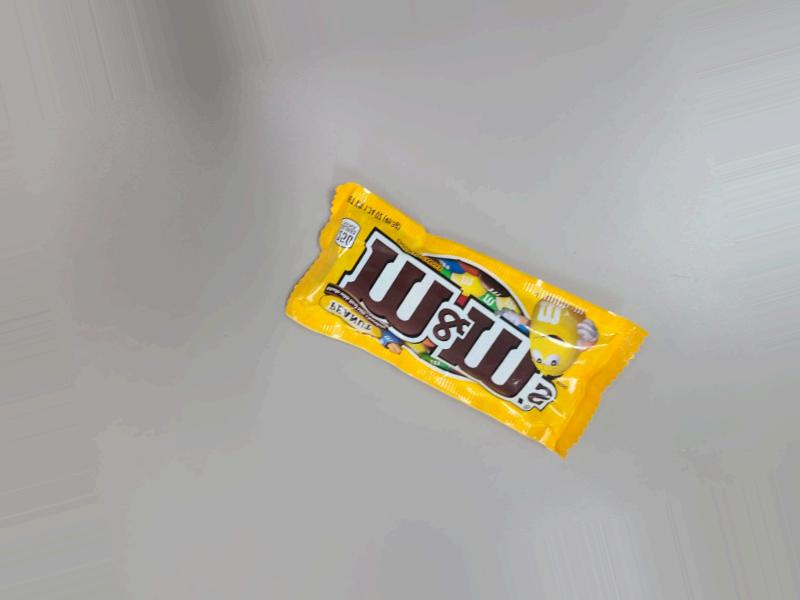m&m: (274, 182, 642, 456)
